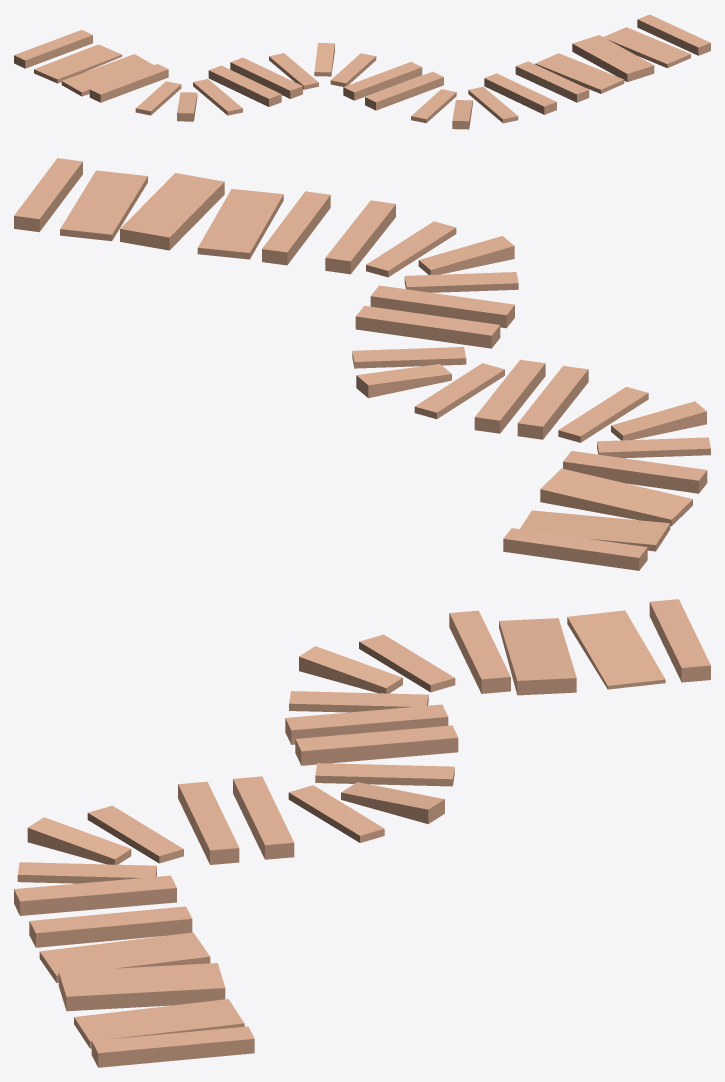
Rendered from path.glb.
The picture shows the model from 3 angles, top to bottom: view 1: azimuth 30°, elevation 25°; view 2: azimuth 150°, elevation 25°; view 3: azimuth 270°, elevation 25°; orthographic projection. The views are drawn at different scales.
Visible parts, largest first — view 1: path; view 2: path; view 3: path.
Boxes of the visible parts, x1,y1,x2,y2 form: path: [14, 14, 710, 129]; path: [14, 158, 710, 570]; path: [14, 599, 710, 1067].
Bounding box in the file's own units: 2.91 × 0.0574 × 1.87.
